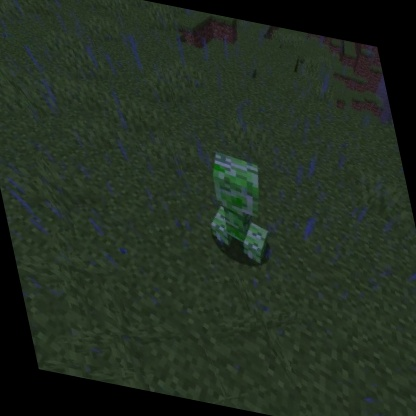creeper: (189, 144, 286, 273)
